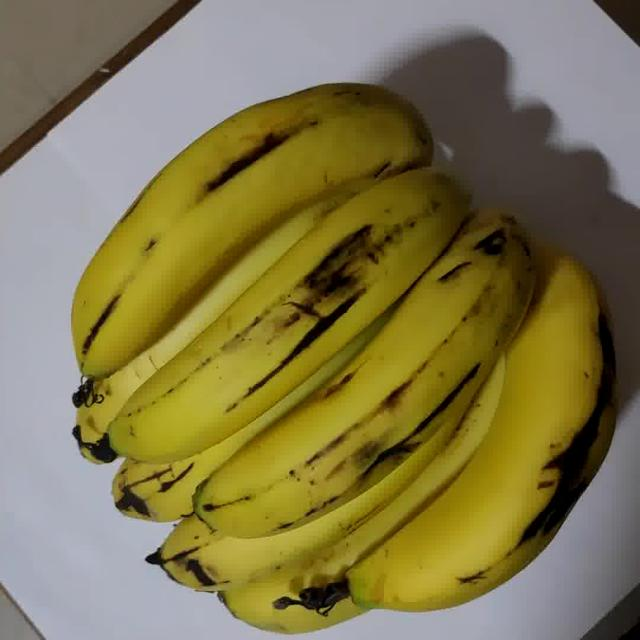banana_pacche: (25, 12, 640, 628)
